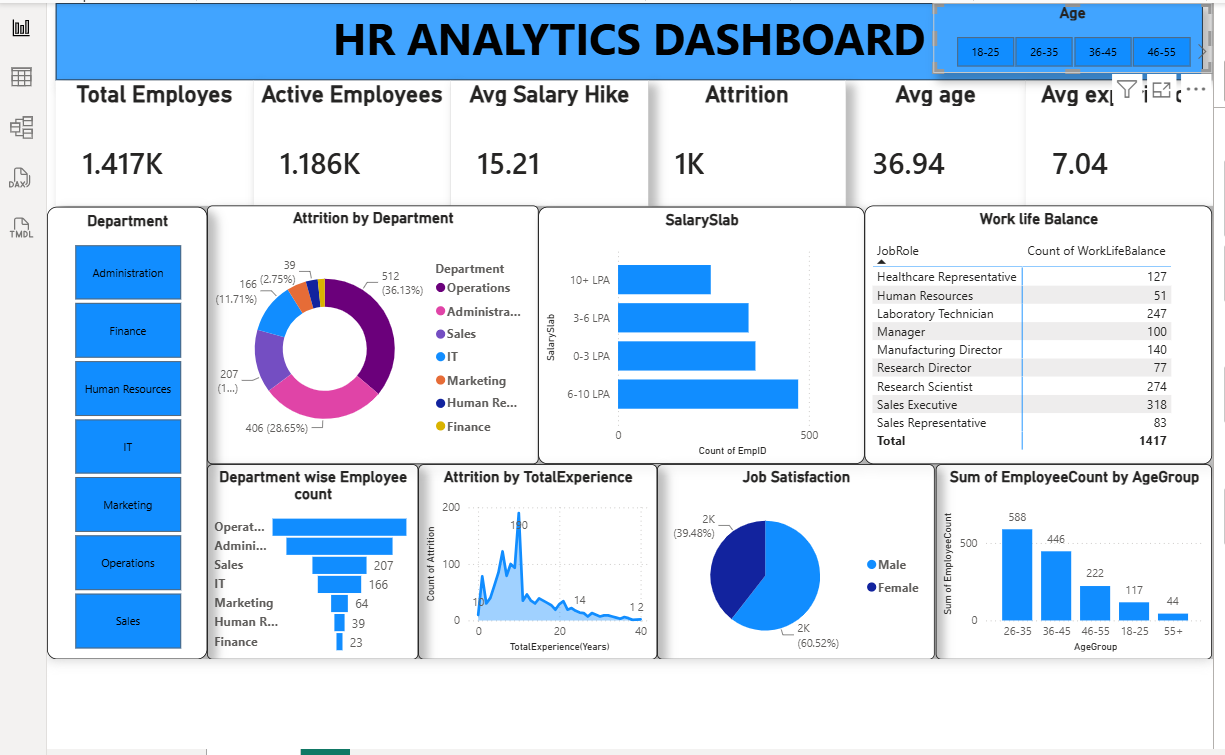

What the dashboard file says about the page in this screenshot:
{"tool":"powerbi","page":{"name":"Page 1","canvas":[1280,720],"ordinal":0},"visuals":[{"type":"textbox","box":[10,0,1259,85],"z":0},{"type":"cardVisual","title":"Total Employes","fields":{"Data":["CountNonNull(HR_Analytics-4.EmpID)"]},"box":[9.6,85.1,216.8,137.2],"z":1000},{"type":"cardVisual","title":"Active Employees","fields":{"Data":["CountNonNull(HR_Analytics-4.EmployeeCount)"]},"box":[226.4,85.1,216.8,137.2],"z":2000},{"type":"cardVisual","title":"Avg age","fields":{"Data":["Avg(HR_Analytics-4.Age)"]},"box":[876.8,85.1,197.6,137.2],"z":3000},{"type":"cardVisual","title":"Attrition","fields":{"Data":["HR_Analytics-4.Total Attrition"]},"box":[660,85.1,216.8,137.2],"z":4000},{"type":"cardVisual","title":"Avg Salary Hike","fields":{"Data":["Avg(HR_Analytics-4.SalaryHike %)"]},"box":[443.2,85.1,216.8,137.2],"z":5000},{"type":"cardVisual","title":"Avg experience","fields":{"Data":["Avg(HR_Analytics-4.YearsatCompany)"]},"box":[1074.4,85.1,205.8,137.2],"z":6000},{"type":"donutChart","title":"Attrition  by Department","fields":{"Y":["CountNonNull(HR_Analytics-4.Attrition)"],"Category":["HR_Analytics-4.Department"]},"box":[175.6,222.3,363.6,284],"z":7000},{"type":"clusteredBarChart","title":"SalarySlab","fields":{"Category":["HR_Analytics-4.SalarySlab"],"Y":["CountNonNull(HR_Analytics-4.EmpID)"]},"box":[539.3,223.7,358.1,282.7],"z":8000},{"type":"pivotTable","title":"Work life Balance","fields":{"Rows":["HR_Analytics-4.JobRole"],"Values":["CountNonNull(HR_Analytics-4.WorkLifeBalance)"]},"box":[897.4,222.3,381.5,284],"z":9000},{"type":"columnChart","fields":{"Category":["HR_Analytics-4.AgeGroup"],"Y":["Sum(HR_Analytics-4.EmployeeCount)"]},"box":[975.6,506.3,303.3,214.1],"z":10000},{"type":"pieChart","title":"Job Satisfaction","fields":{"Category":["HR_Analytics-4.Gender"],"Y":["Sum(HR_Analytics-4.JobSatisfaction)"]},"box":[669.6,506.3,304.6,214.1],"z":11000},{"type":"areaChart","title":"Attrition by TotalExperience","fields":{"Y":["CountNonNull(HR_Analytics-4.Attrition)"],"Category":["HR_Analytics-4.TotalExperience(Years)"]},"box":[407.5,506.3,262.1,214.1],"z":12000},{"type":"funnel","title":"Department wise Employee count","fields":{"Category":["HR_Analytics-4.Department"],"Y":["CountNonNull(HR_Analytics-4.EmpID)"]},"box":[175.6,506.3,231.9,214.1],"z":13000},{"type":"slicer","title":"Department","fields":{"Values":["HR_Analytics-4.Department"]},"box":[0,223.7,175.6,496.7],"z":14000},{"type":"slicer","title":"Age","fields":{"Values":["HR_Analytics-4.AgeGroup"]},"box":[972.9,0,306,76.8],"z":15000}]}

Visuals, with their boxes in screenshot pixels (x1, y1, x2, y2):
textbox: <bbox>54, 0, 1200, 77</bbox>
"Total Employes" cardVisual: <bbox>53, 77, 251, 202</bbox>
"Active Employees" cardVisual: <bbox>251, 77, 448, 202</bbox>
"Avg age" cardVisual: <bbox>843, 77, 1023, 202</bbox>
"Attrition" cardVisual: <bbox>645, 77, 843, 202</bbox>
"Avg Salary Hike" cardVisual: <bbox>448, 77, 645, 202</bbox>
"Avg experience" cardVisual: <bbox>1023, 77, 1210, 202</bbox>
"Attrition  by Department" donutChart: <bbox>205, 202, 536, 461</bbox>
"SalarySlab" clusteredBarChart: <bbox>536, 204, 862, 461</bbox>
"Work life Balance" pivotTable: <bbox>862, 202, 1209, 461</bbox>
columnChart - HR_Analytics-4.AgeGroup x Sum(HR_Analytics-4.EmployeeCount): <bbox>933, 461, 1209, 656</bbox>
"Job Satisfaction" pieChart: <bbox>654, 461, 932, 656</bbox>
"Attrition by TotalExperience" areaChart: <bbox>416, 461, 654, 656</bbox>
"Department wise Employee count" funnel: <bbox>205, 461, 416, 656</bbox>
"Department" slicer: <bbox>45, 204, 205, 656</bbox>
"Age" slicer: <bbox>930, 0, 1209, 70</bbox>
